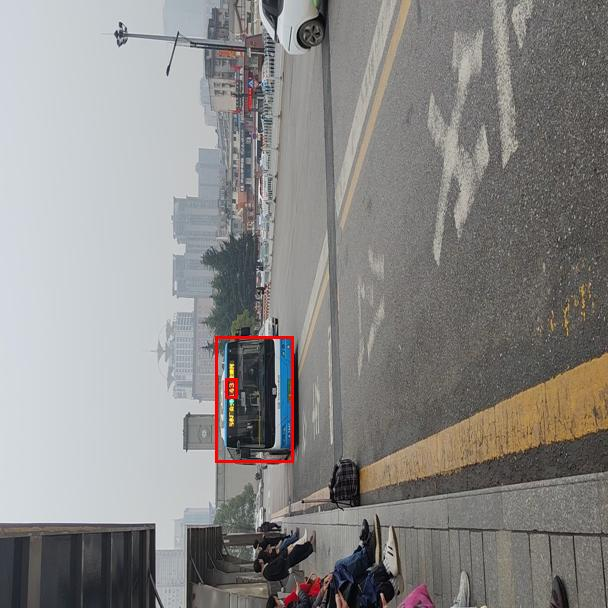bus: (215, 336, 293, 462)
screen: (225, 378, 237, 398)
